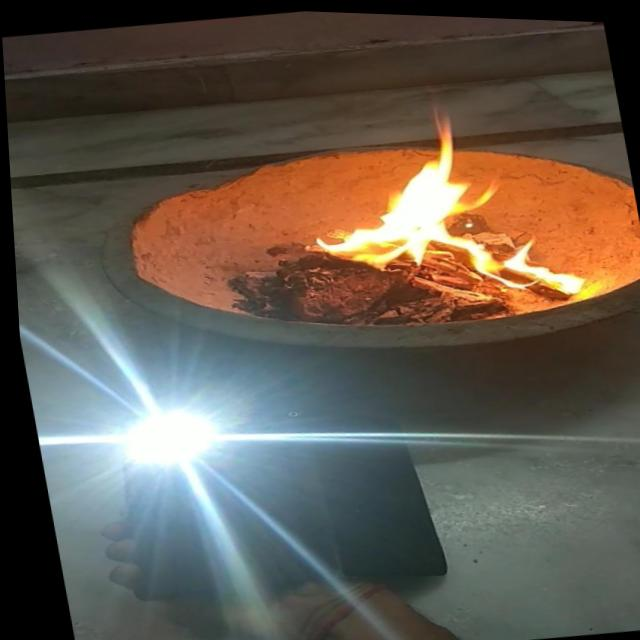fire: (295, 92, 585, 324)
